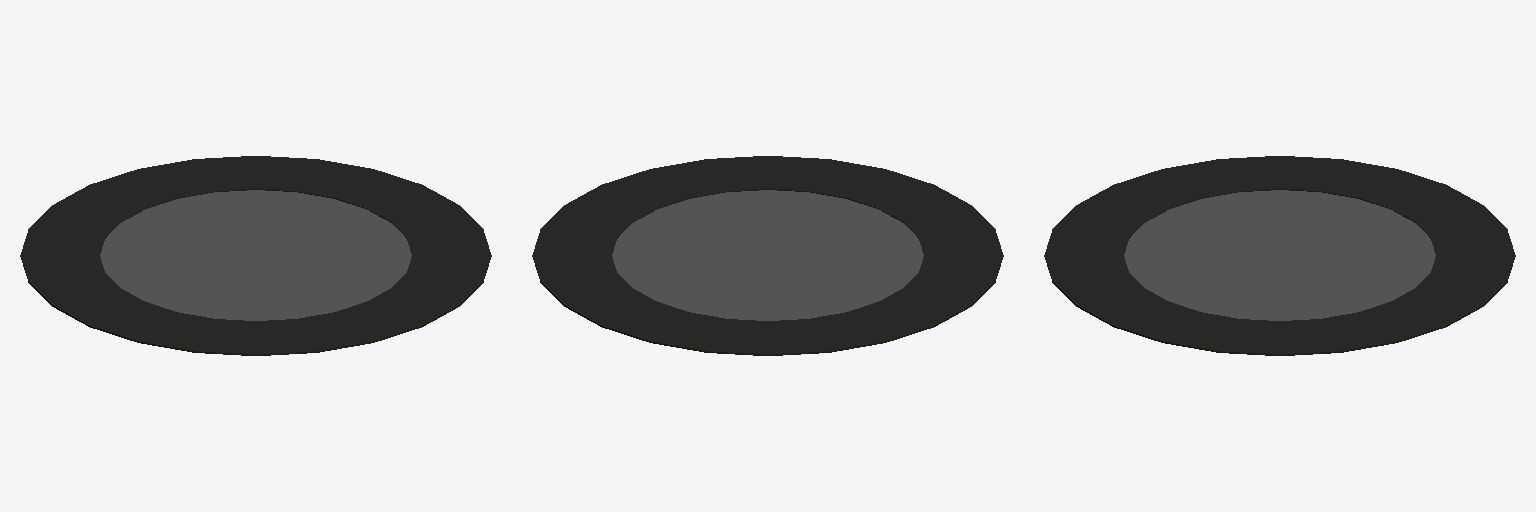
File: Rug.obj
The picture shows the model from 3 angles: view 1: azimuth 30°, elevation 25°; view 2: azimuth 150°, elevation 25°; view 3: azimuth 270°, elevation 25°; orthographic projection.
Parts seen in each view (by area): view 1: mergedBlocks; view 2: mergedBlocks; view 3: mergedBlocks.
Part boxes in pixels (left/top/right/bottom): mergedBlocks: left=20, top=156, right=491, bottom=355; mergedBlocks: left=532, top=156, right=1003, bottom=355; mergedBlocks: left=1044, top=156, right=1515, bottom=355.
Size of the model in its own units: 3 by 0.0115 by 3.